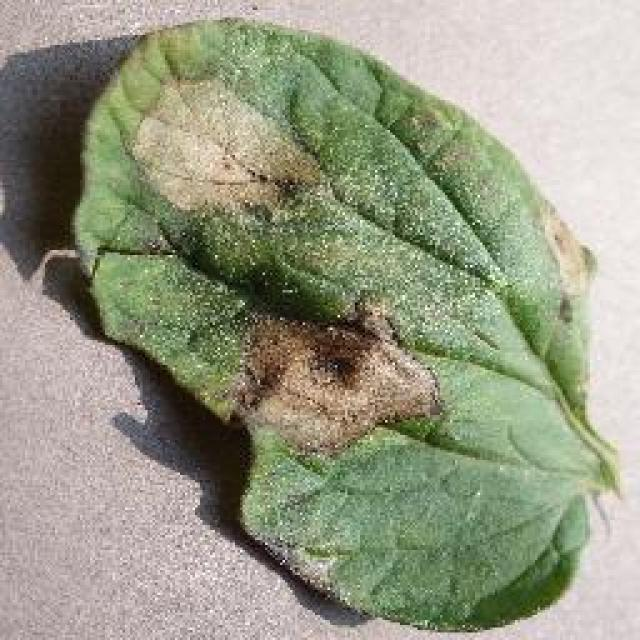Tomato Late Blight: (100, 45, 523, 527)
